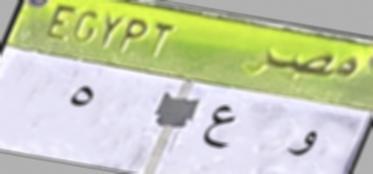5: (62, 75, 97, 118)
ain: (199, 102, 237, 156)
waw: (278, 119, 322, 162)
